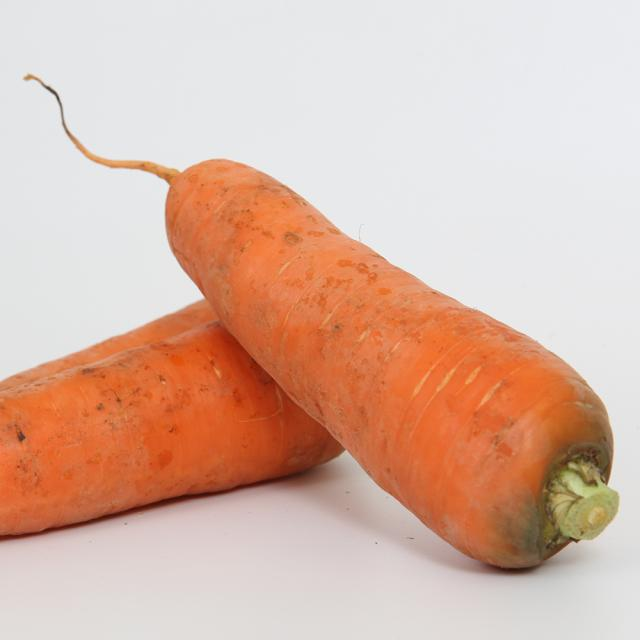carrot: (41, 81, 622, 573)
